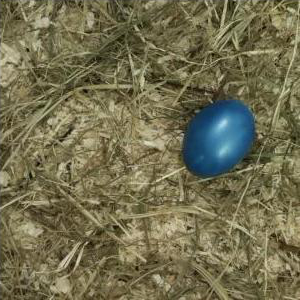egg: (183, 100, 255, 177)
